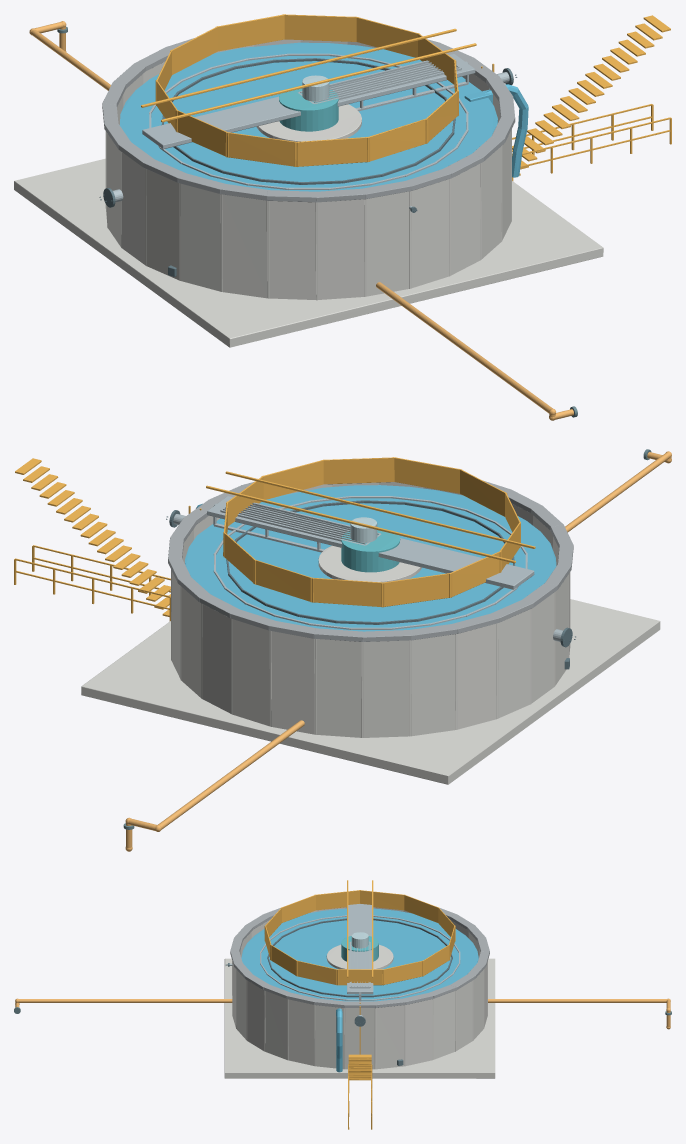
3 renders of one model, top to bottom at view 1: azimuth 30°, elevation 25°; view 2: azimuth 150°, elevation 25°; view 3: azimuth 270°, elevation 25°, orthographic. The views are drawn at different scales.
Parts seen in each view (by area): view 1: render-batch-7, render-batch-1, render-batch-9, render-batch-5, render-batch-4, render-batch-8, render-batch-0, render-batch-2, render-batch-6; view 2: render-batch-7, render-batch-9, render-batch-1, render-batch-5, render-batch-4, render-batch-8, render-batch-0, render-batch-2; view 3: render-batch-7, render-batch-1, render-batch-9, render-batch-4, render-batch-5, render-batch-8, render-batch-0, render-batch-2.
Part boxes in pixels (x1=…): render-batch-7: x1=14, y1=39, x2=603, y2=347; render-batch-1: x1=119, y1=42, x2=528, y2=191; render-batch-9: x1=141, y1=14, x2=671, y2=180; render-batch-5: x1=113, y1=53, x2=509, y2=208; render-batch-4: x1=102, y1=38, x2=515, y2=202; render-batch-8: x1=29, y1=21, x2=573, y2=420; render-batch-0: x1=99, y1=58, x2=517, y2=276; render-batch-2: x1=279, y1=85, x2=338, y2=131; render-batch-6: x1=302, y1=75, x2=329, y2=101; render-batch-7: x1=81, y1=482, x2=660, y2=784; render-batch-9: x1=14, y1=457, x2=535, y2=621; render-batch-1: x1=185, y1=485, x2=556, y2=631; render-batch-5: x1=173, y1=496, x2=563, y2=641; render-batch-4: x1=168, y1=480, x2=573, y2=641; render-batch-8: x1=125, y1=451, x2=671, y2=851; render-batch-0: x1=166, y1=500, x2=575, y2=669; render-batch-2: x1=341, y1=527, x2=400, y2=572; render-batch-7: x1=224, y1=907, x2=495, y2=1078; render-batch-1: x1=241, y1=908, x2=478, y2=1072; render-batch-9: x1=264, y1=880, x2=455, y2=1129; render-batch-4: x1=230, y1=908, x2=489, y2=1008; render-batch-5: x1=229, y1=904, x2=460, y2=1016; render-batch-8: x1=15, y1=998, x2=670, y2=1029; render-batch-0: x1=226, y1=918, x2=452, y2=1065; render-batch-2: x1=341, y1=936, x2=378, y2=961.
Size of the model in its own units: 23.73 by 6.5 by 38.4.
